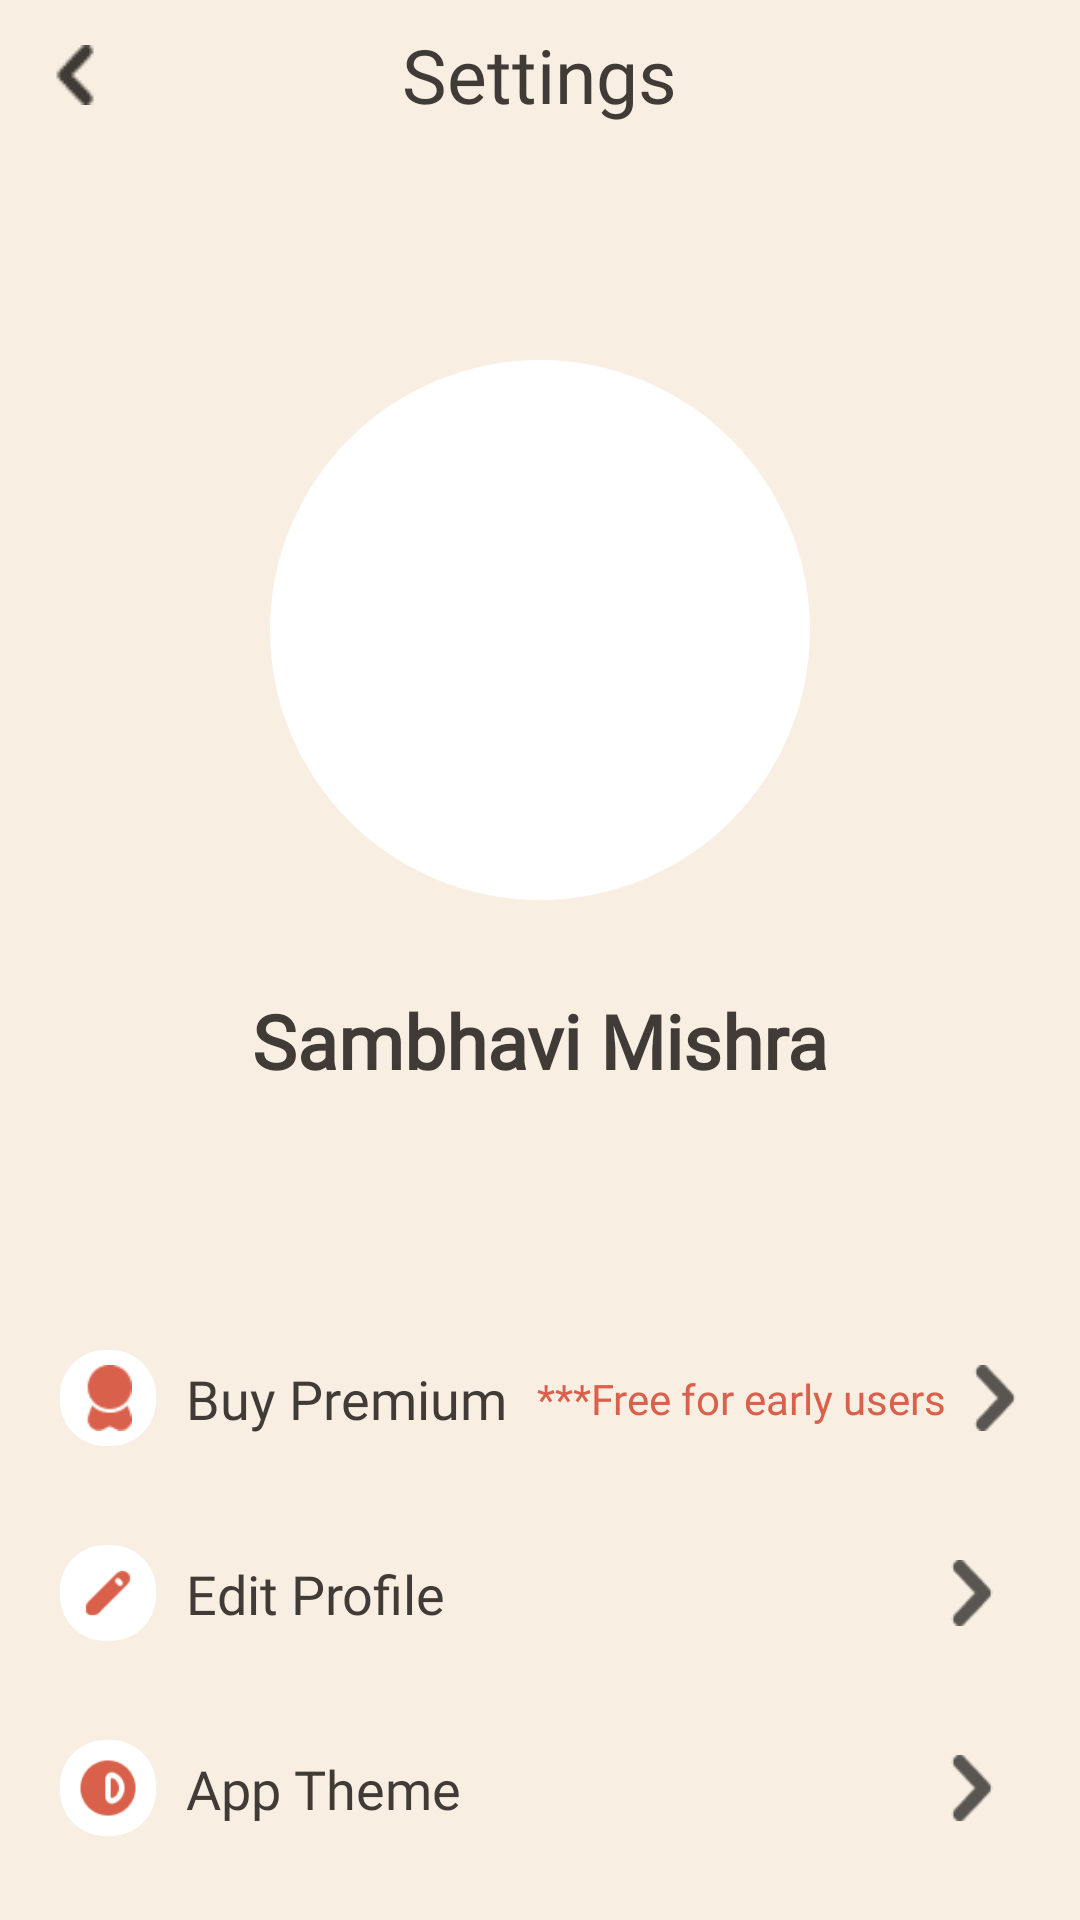

Icons on this 1080×1920 Android screen, each with the point to tap as (x,y):
back: (75,75)
